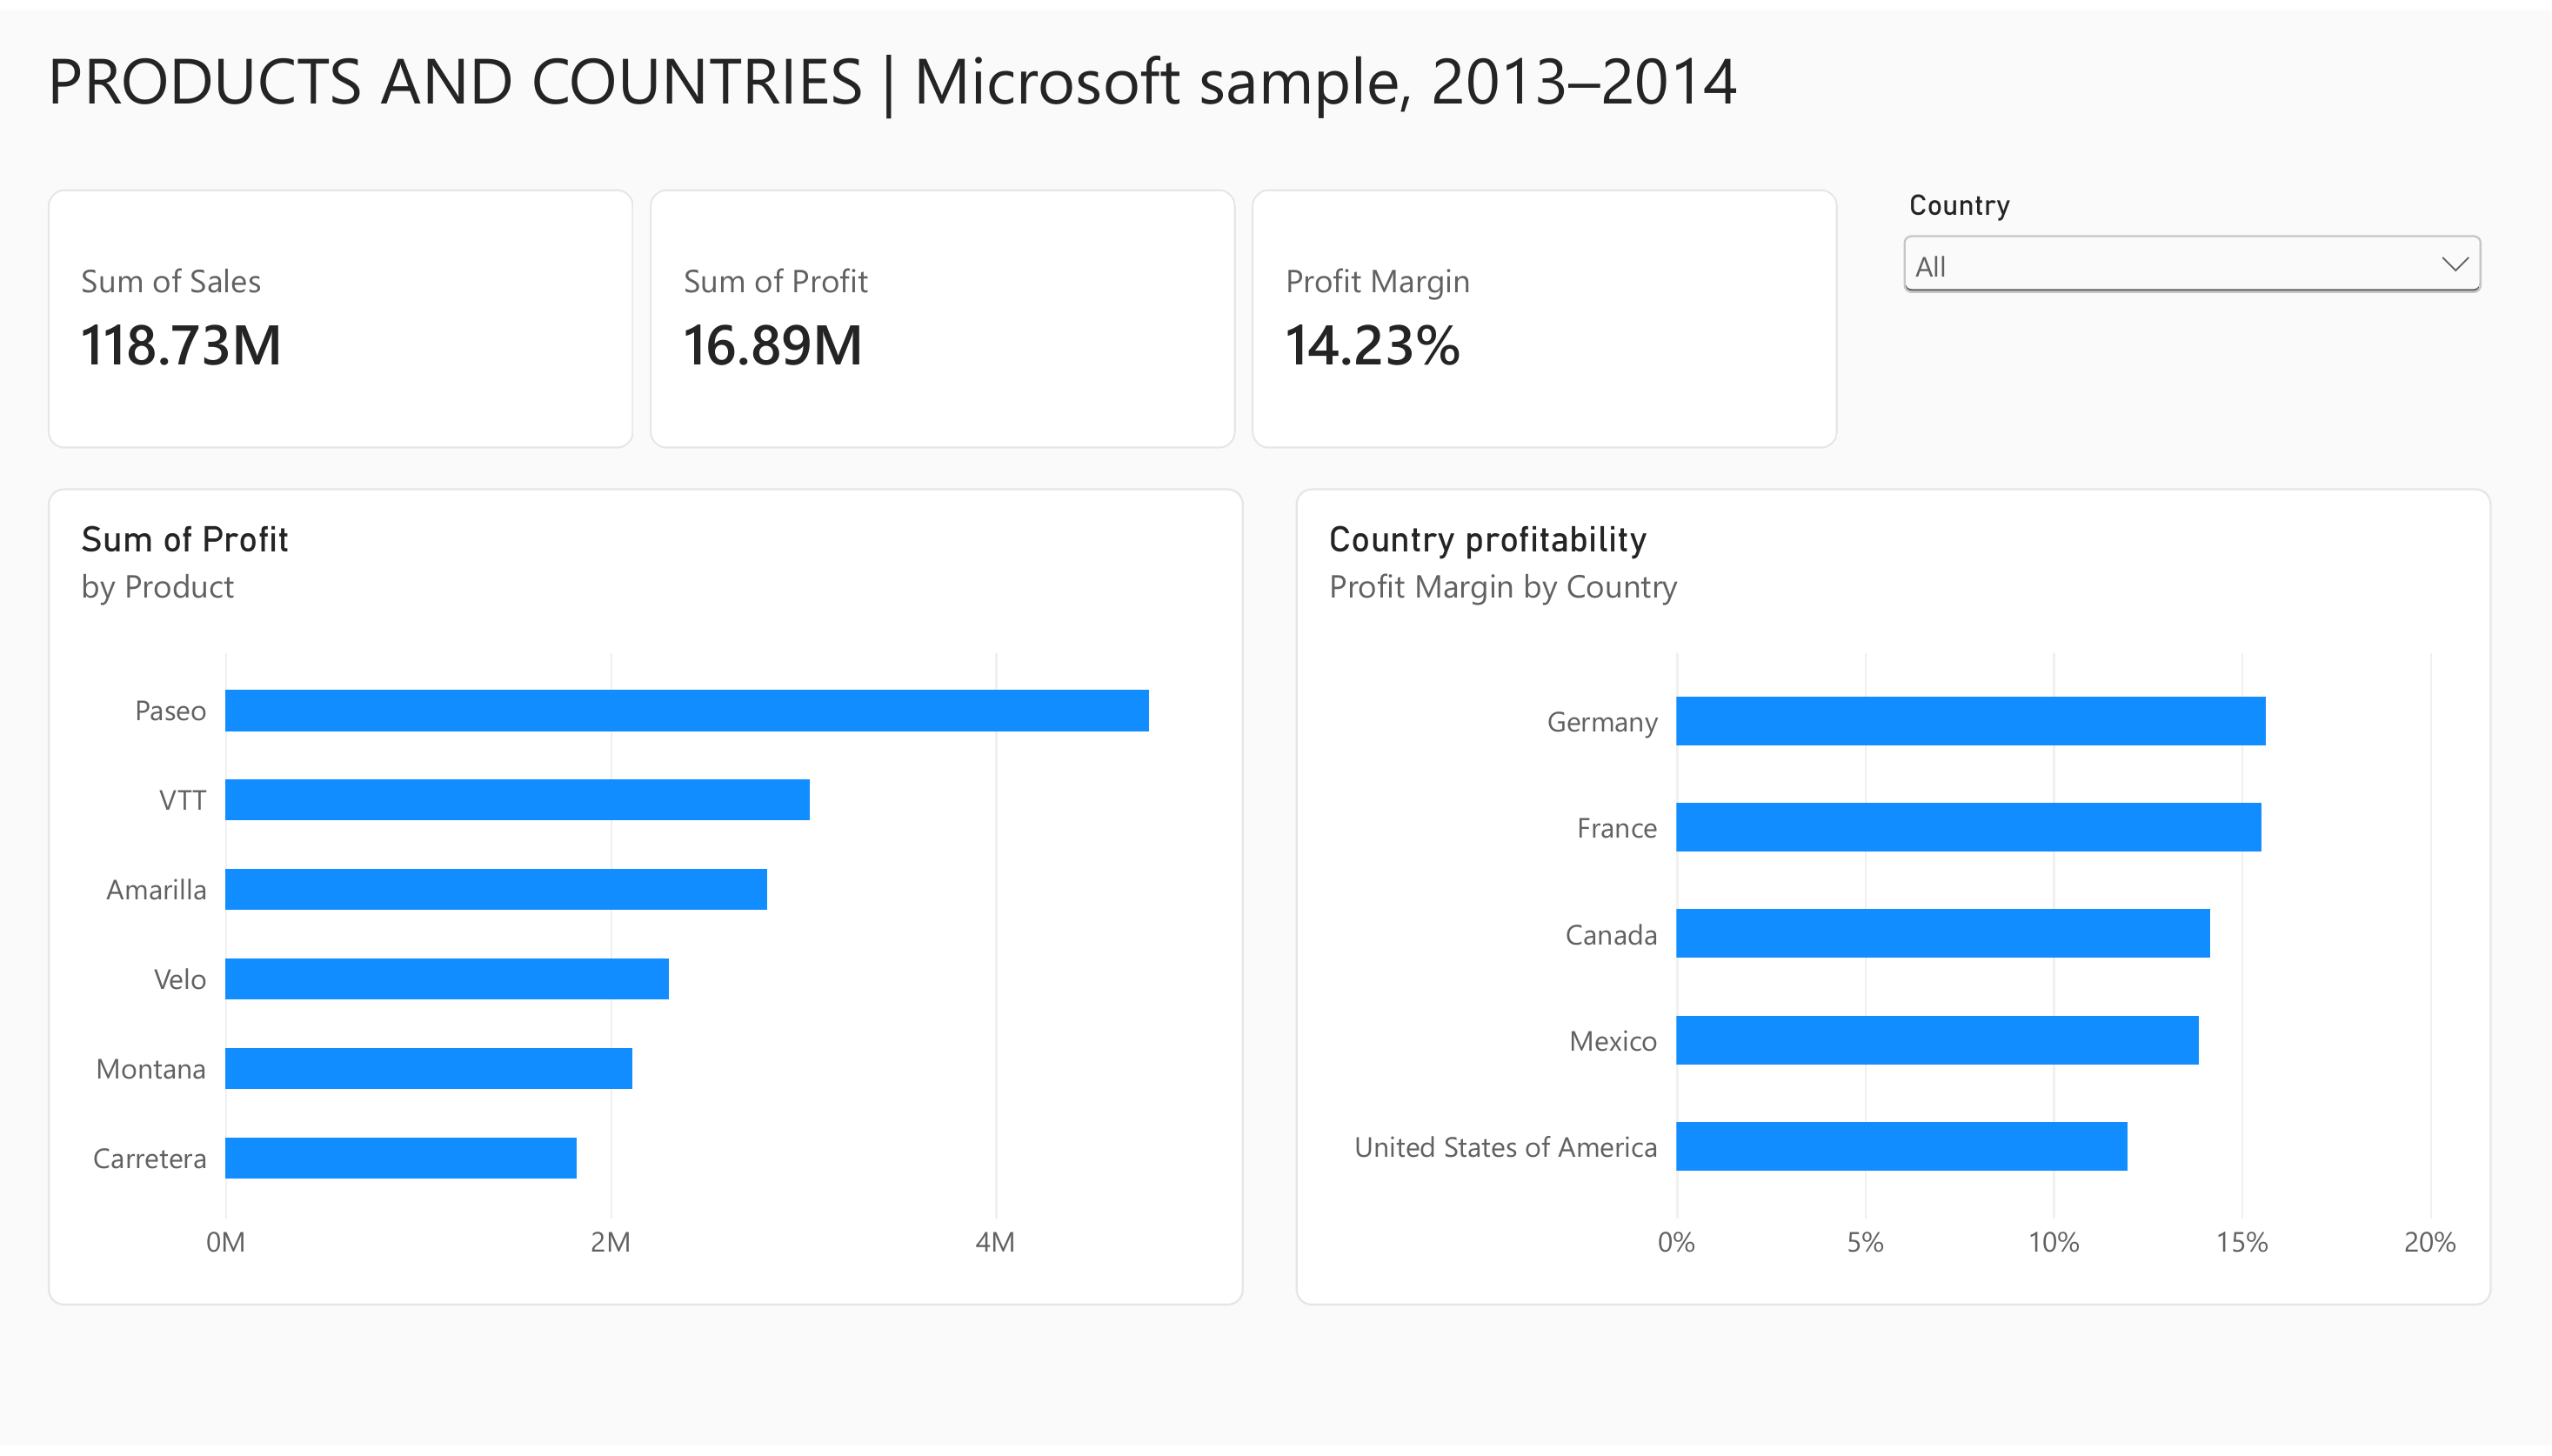

The dashboard page shown, as its layout file describes it:
{"tool":"powerbi","page":{"name":"02 Products and Countries","canvas":[1280,720],"ordinal":1},"visuals":[{"type":"cardVisual","fields":{"Data":["Sum(financials.Sales)","Sum(financials.Profit)","financials.Profit Margin"]},"box":[24,90,900,130],"z":0},{"type":"clusteredBarChart","fields":{"Category":["financials.Product"],"Y":["Sum(financials.Profit)"]},"box":[24,240,600,410],"z":1000},{"type":"clusteredBarChart","title":"Country profitability","fields":{"Category":["financials.Country"],"Y":["financials.Profit Margin"]},"box":[650,240,600,410],"z":2000},{"type":"textbox","box":[24,12,1230,72],"z":3000},{"type":"slicer","fields":{"Values":["financials.Country"]},"box":[950,90,300,130],"z":4000}]}

Visuals, with their boxes in screenshot pixels (x1, y1, x2, y2), scaled from the page's 1280x720 canvas onto the 2552x1456 screenshot:
cardVisual - Sum(financials.Sales) x Sum(financials.Profit): pyautogui.locateOnScreen(48, 182, 1842, 445)
clusteredBarChart - financials.Product x Sum(financials.Profit): pyautogui.locateOnScreen(48, 485, 1244, 1314)
"Country profitability" clusteredBarChart: pyautogui.locateOnScreen(1296, 485, 2492, 1314)
textbox: pyautogui.locateOnScreen(48, 24, 2500, 170)
slicer - financials.Country: pyautogui.locateOnScreen(1894, 182, 2492, 445)
